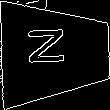N_E: (32, 32, 78, 74)
